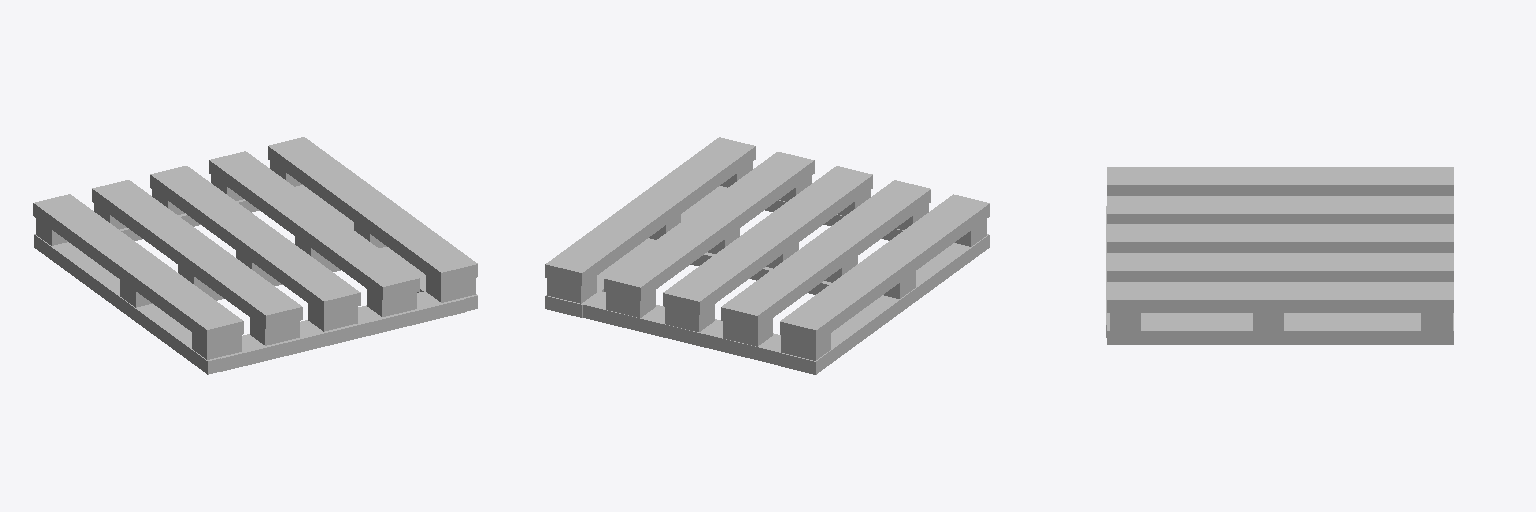
File: wooden pallet.obj
The picture shows the model from 3 angles: view 1: azimuth 30°, elevation 25°; view 2: azimuth 150°, elevation 25°; view 3: azimuth 270°, elevation 25°; orthographic projection.
Visible parts, largest first — view 1: Wooden_pallet1; view 2: Wooden_pallet1; view 3: Wooden_pallet1.
Part boxes in pixels (left/top/right/bottom): Wooden_pallet1: left=33, top=137, right=477, bottom=374; Wooden_pallet1: left=545, top=137, right=989, bottom=374; Wooden_pallet1: left=1106, top=167, right=1453, bottom=344.
Size of the model in its own units: 90.05 by 14.23 by 100.